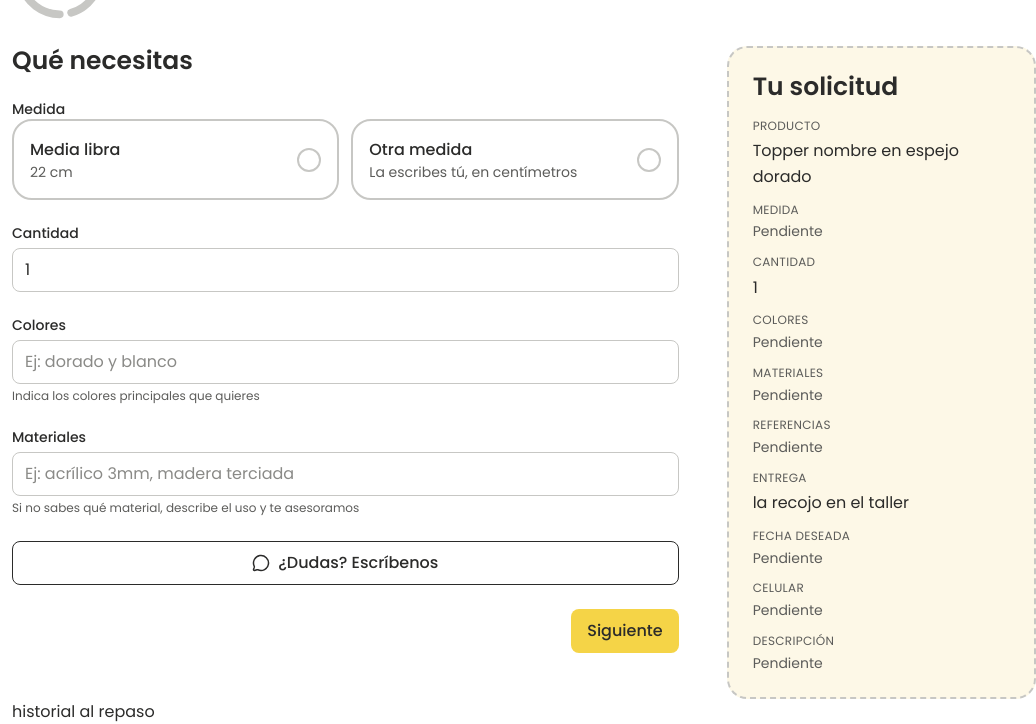
Test: PedidoFormPage | recorrido › el momento 1 incompleto no avanza: un solo aviso y el foco en el primer campo marcado
(page scrolled)
Check: the heading "Qué necesitas" is shown, box [12, 43, 193, 78]
Click the button "Siguiente" at (625, 631), box [571, 609, 679, 653]
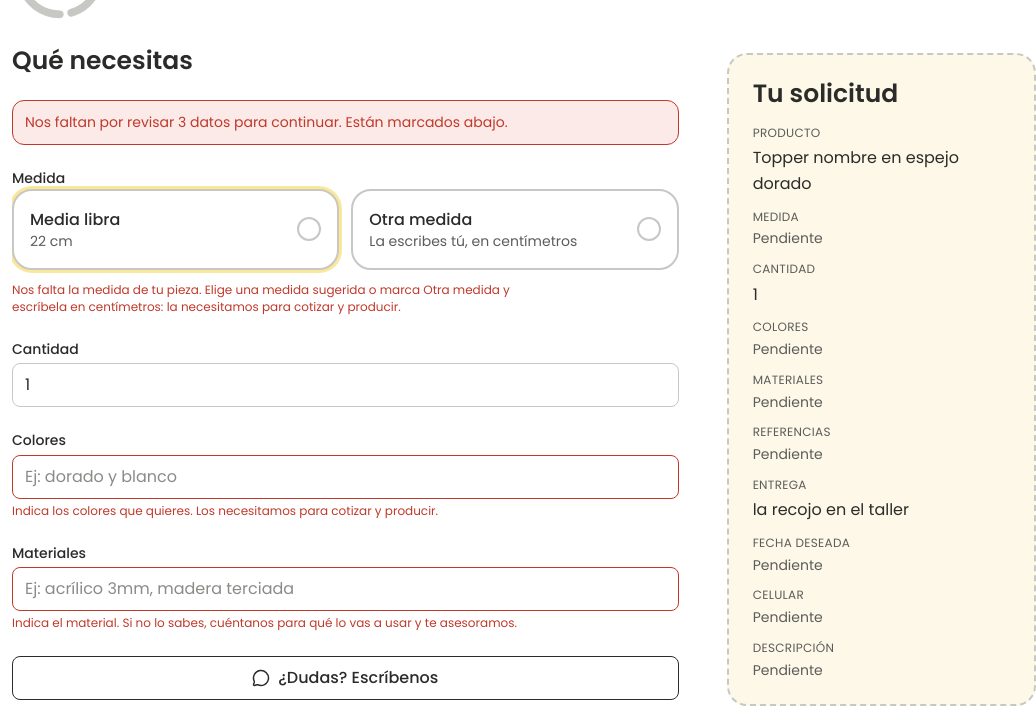
Check: the heading "Qué necesitas" is shown, box [12, 43, 193, 78]
Check: the number of messages is 1, box [12, 100, 679, 145]
